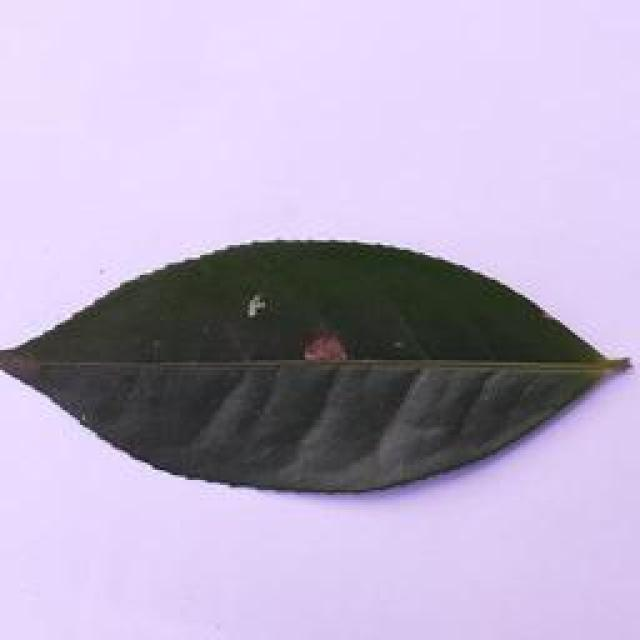Gray Blight: (0, 234, 631, 498)
